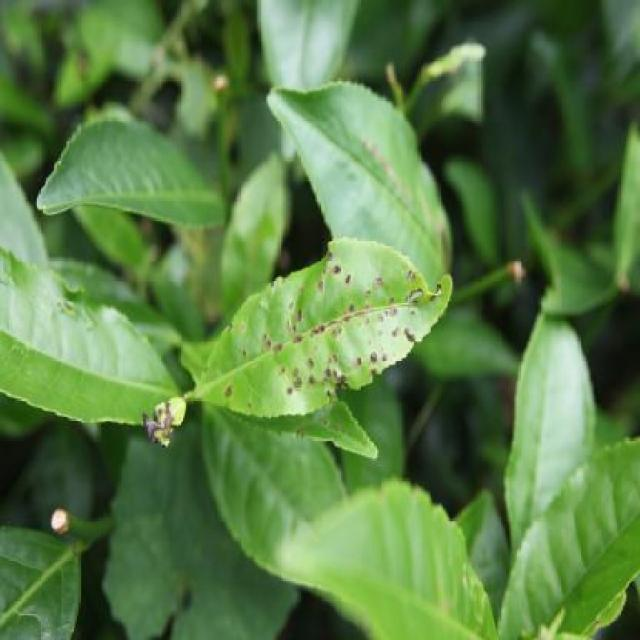Tea Mosquito bug infested leaf: (188, 208, 477, 406)
